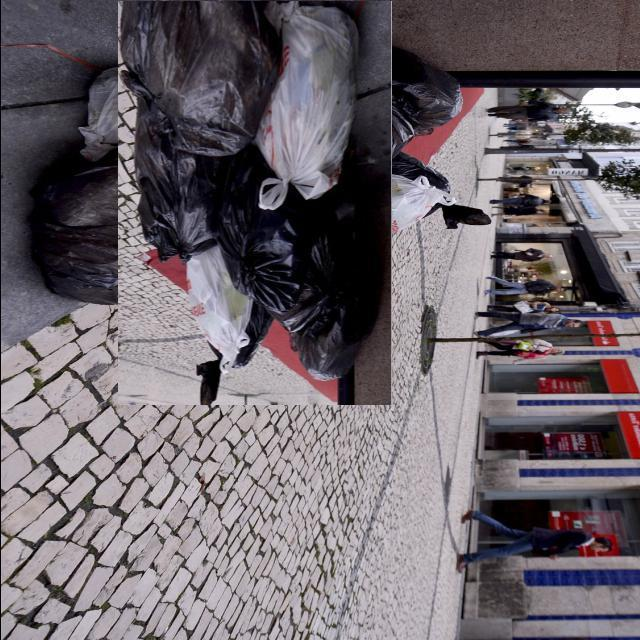Trashbag: (185, 146, 397, 375), (124, 4, 280, 163), (25, 162, 120, 315), (125, 112, 194, 278), (396, 44, 470, 155)
